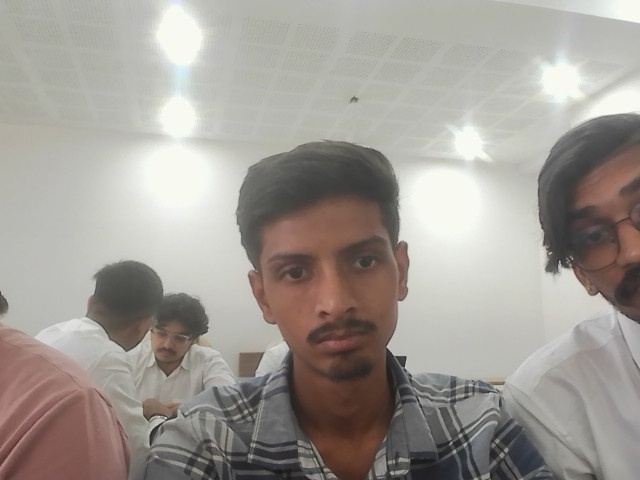light_on: (543, 66, 605, 130), (538, 193, 571, 271), (151, 87, 203, 133), (443, 115, 493, 162), (615, 5, 636, 25)
person: (498, 111, 639, 479), (34, 259, 165, 470), (0, 280, 131, 479), (131, 292, 238, 420)
